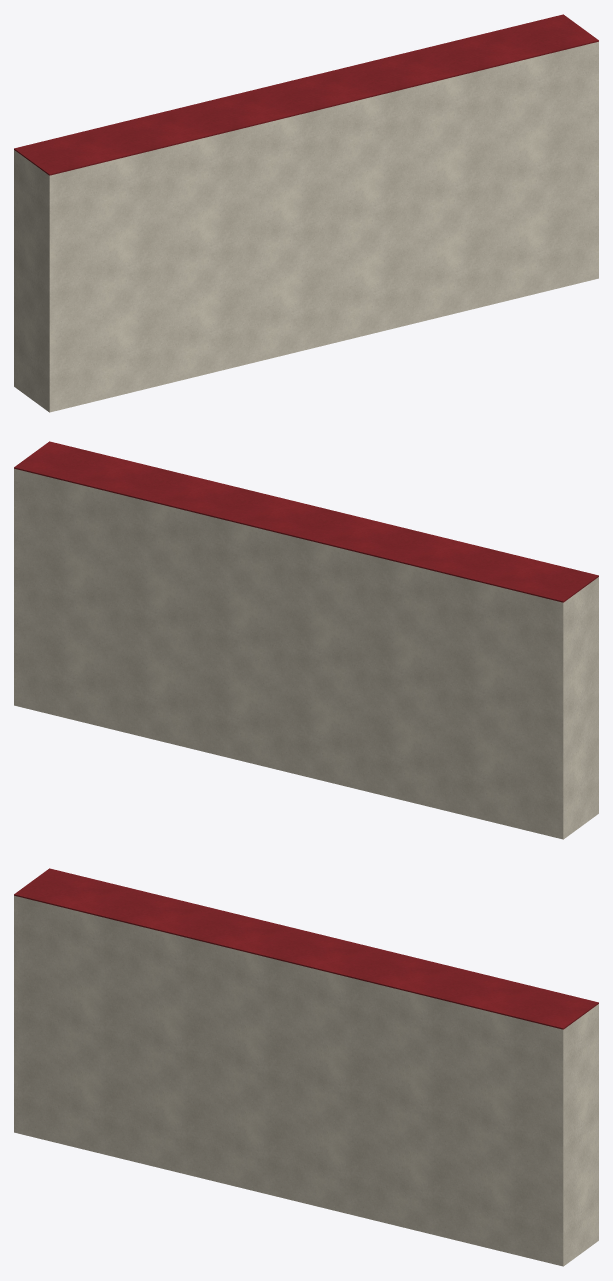
The model's file is aisle_floor.glb.
The picture shows the model from 3 angles, top to bottom: view 1: azimuth 30°, elevation 25°; view 2: azimuth 150°, elevation 25°; view 3: azimuth 330°, elevation 25°; orthographic projection.
Visible parts, largest first — view 1: aisle_floor_trim, aisle_floor_carpet; view 2: aisle_floor_trim, aisle_floor_carpet; view 3: aisle_floor_trim, aisle_floor_carpet.
Boxes of the visible parts, x1=… form: aisle_floor_trim: x1=14, y1=41, x2=598, y2=412; aisle_floor_carpet: x1=14, y1=14, x2=598, y2=175; aisle_floor_trim: x1=14, y1=468, x2=598, y2=839; aisle_floor_carpet: x1=14, y1=441, x2=598, y2=602; aisle_floor_trim: x1=14, y1=895, x2=598, y2=1266; aisle_floor_carpet: x1=14, y1=868, x2=598, y2=1029.
Size of the model in its own units: 13.4 by 5.55 by 1.5.
2 materials, 2 textured.
